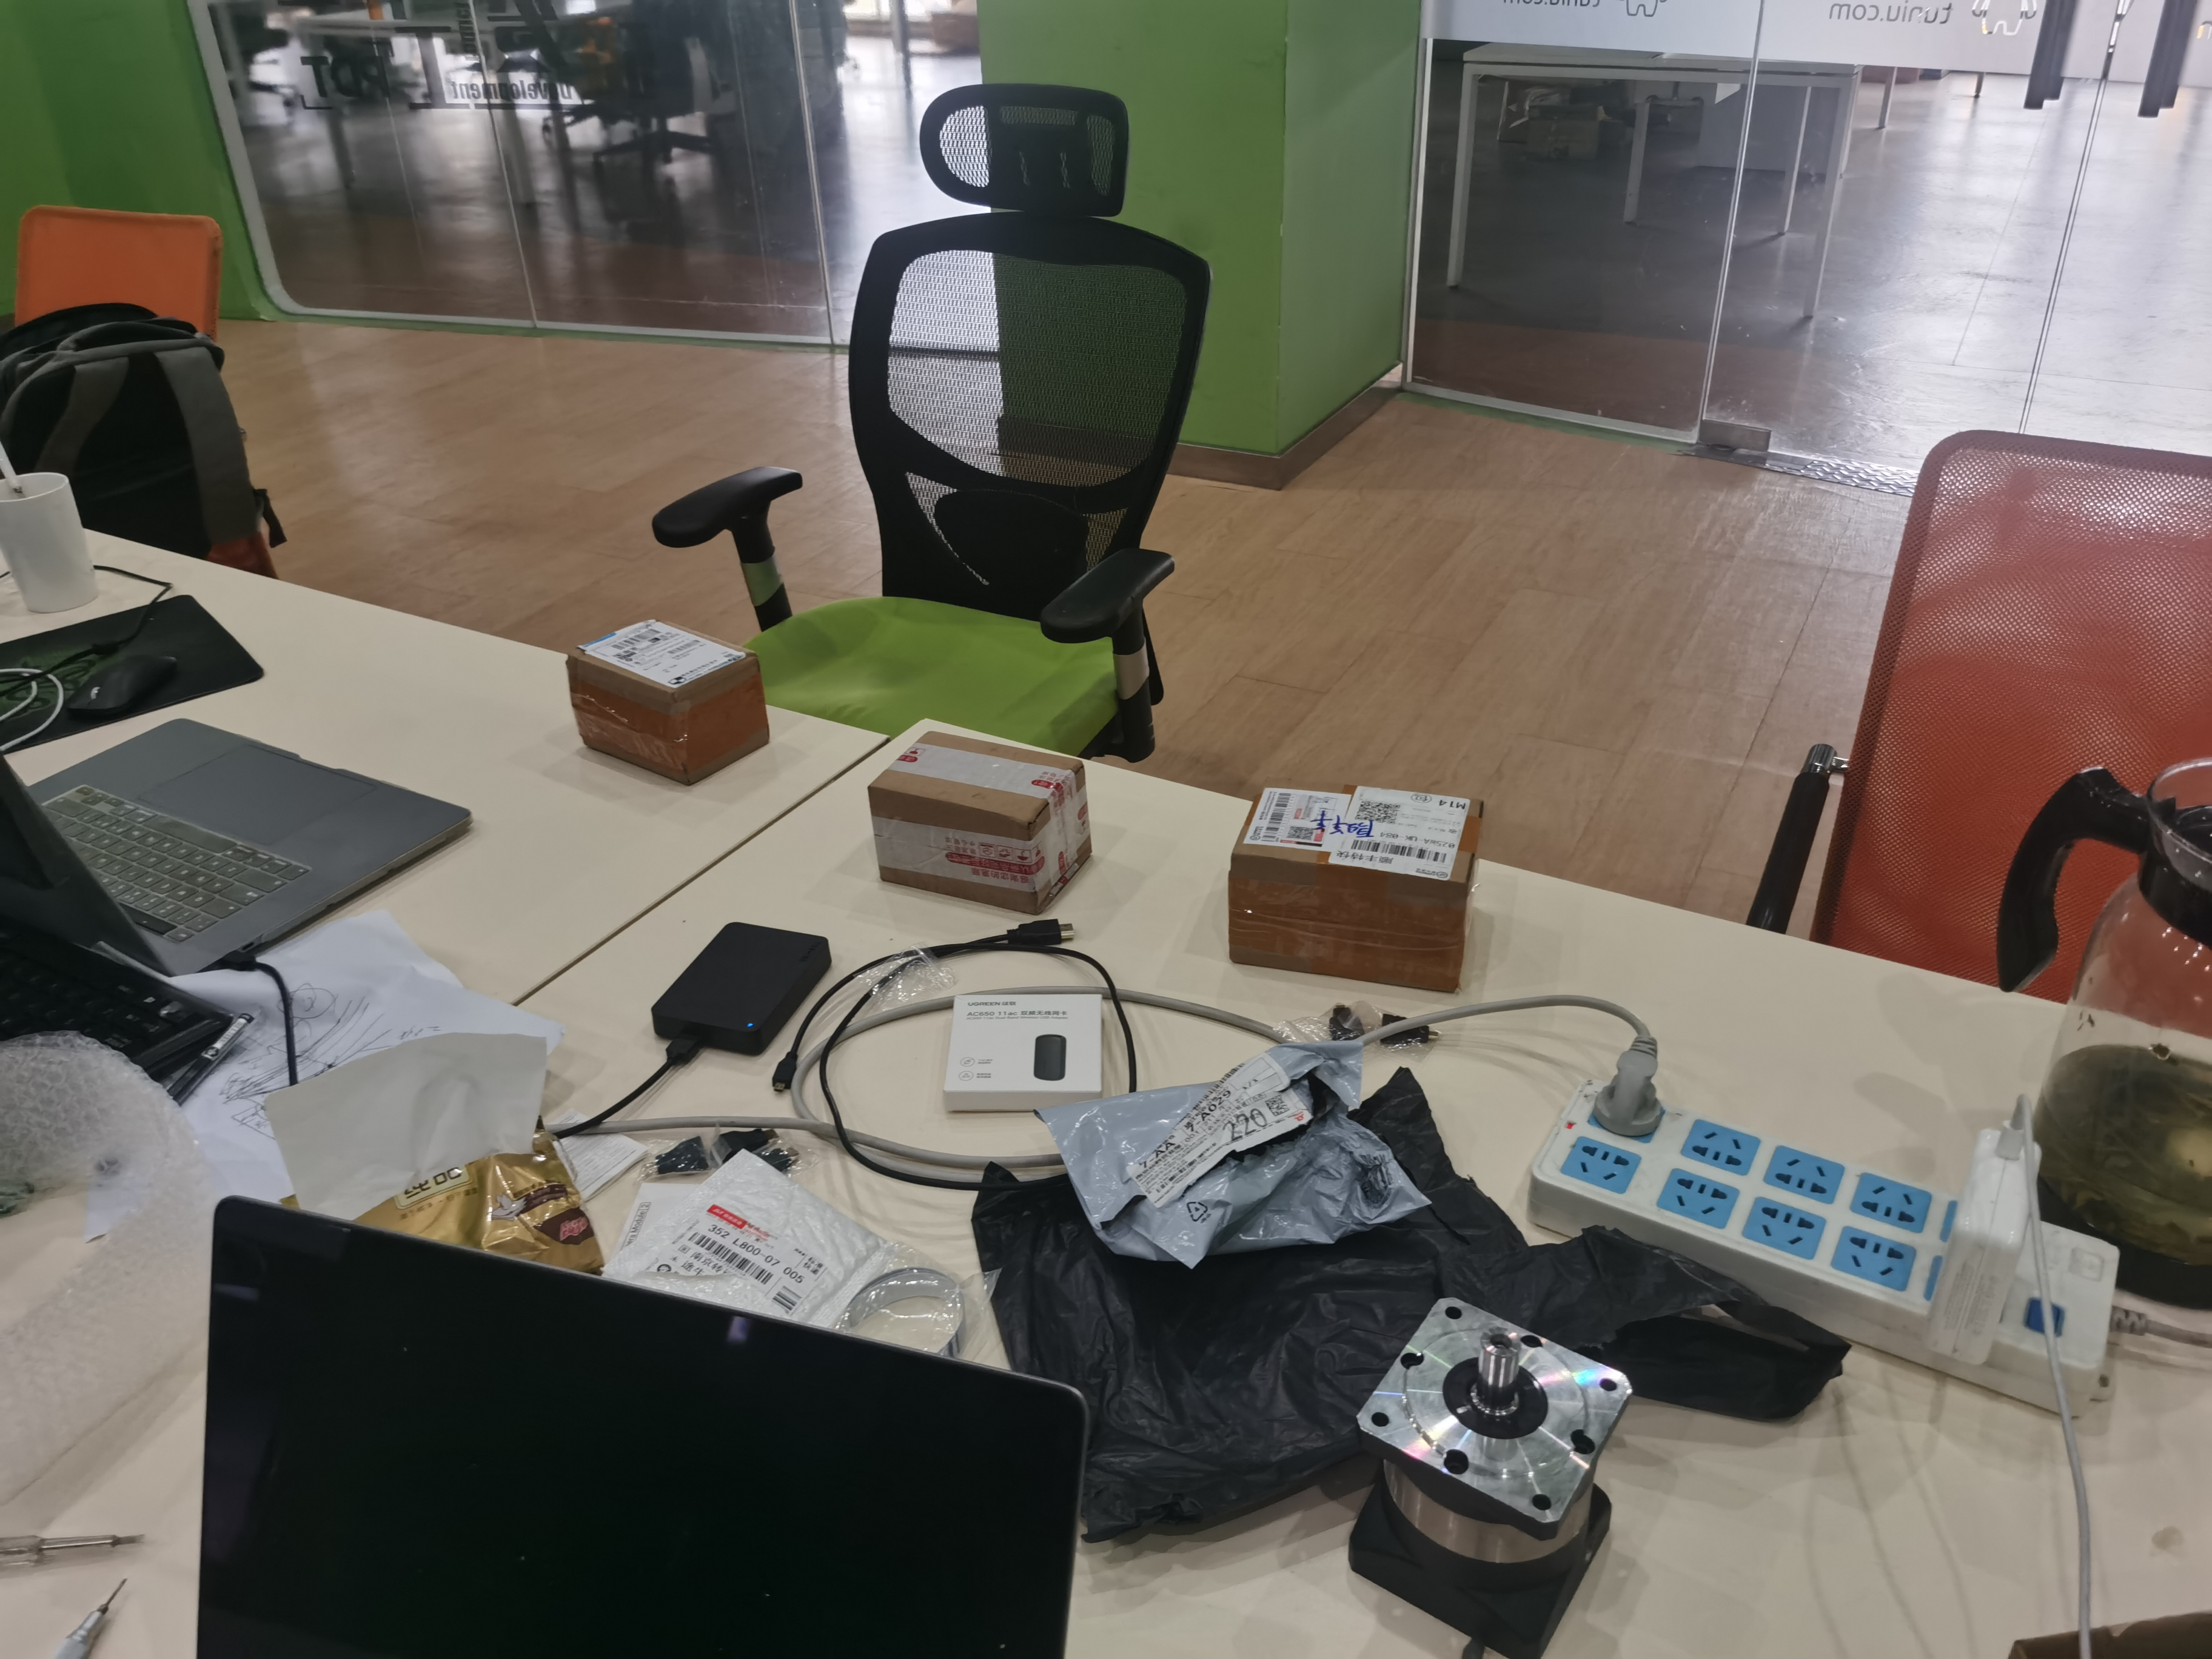box: (1217, 774, 1498, 997), (860, 720, 1101, 915), (557, 613, 780, 795)
